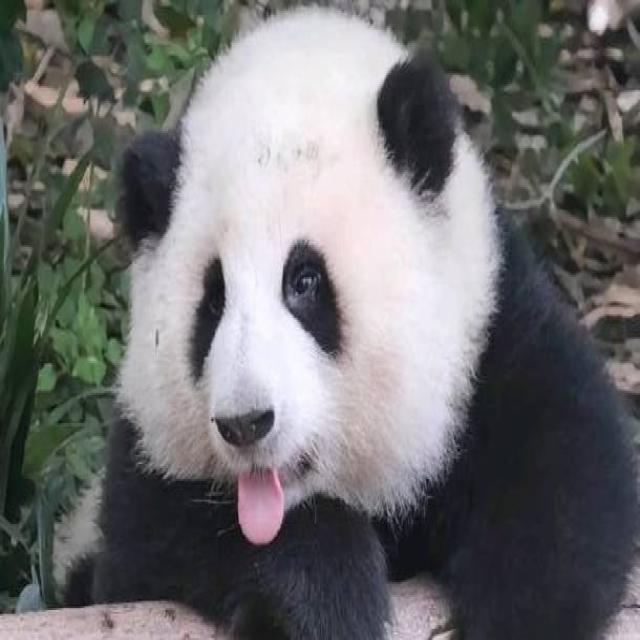panda: (62, 0, 612, 640)
